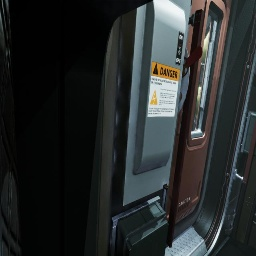SafetySwitchPanel ,: (112, 0, 203, 206)
